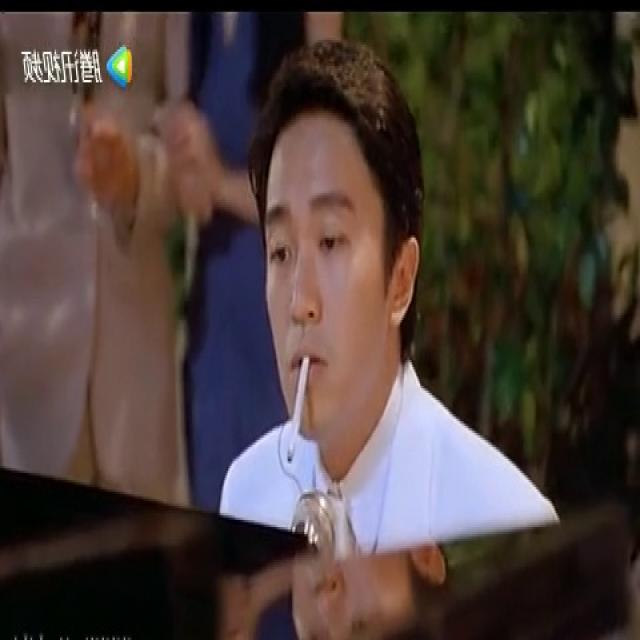smoking: (284, 354, 310, 466)
